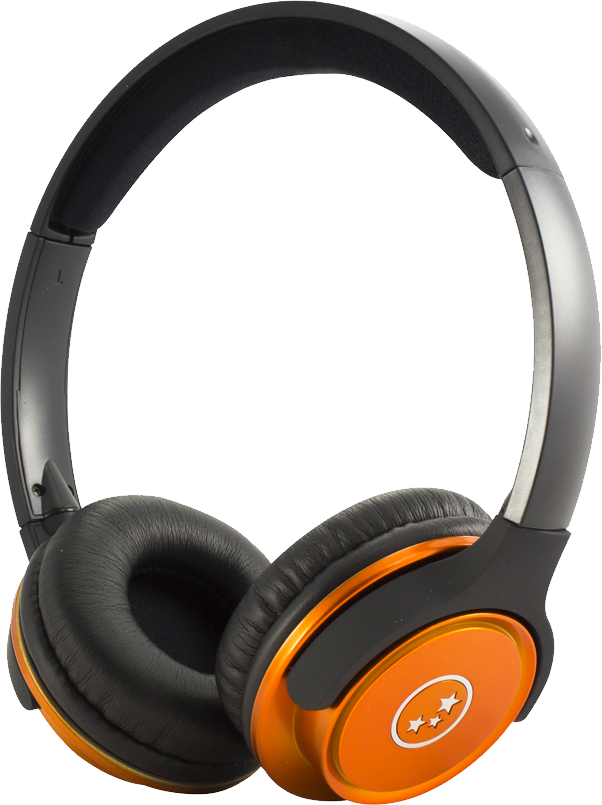headphone: (7, 99, 602, 803)
